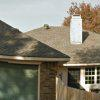Chimney: (62, 8, 91, 47)
